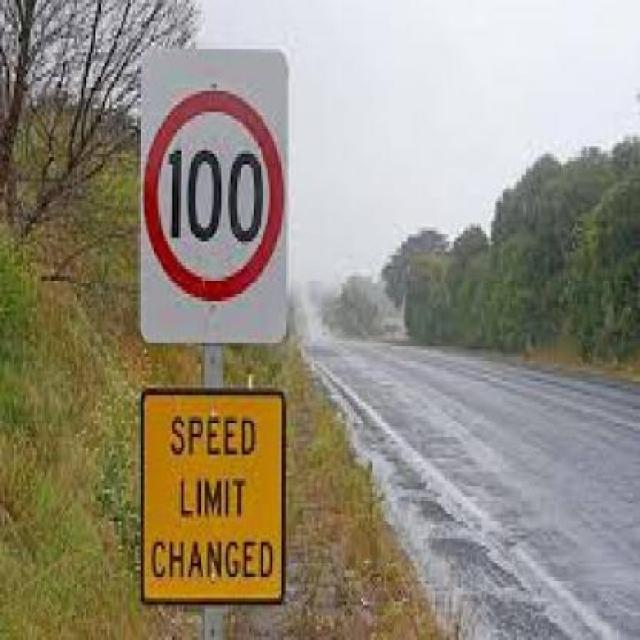forb_speed_over_100: (148, 91, 280, 297)
